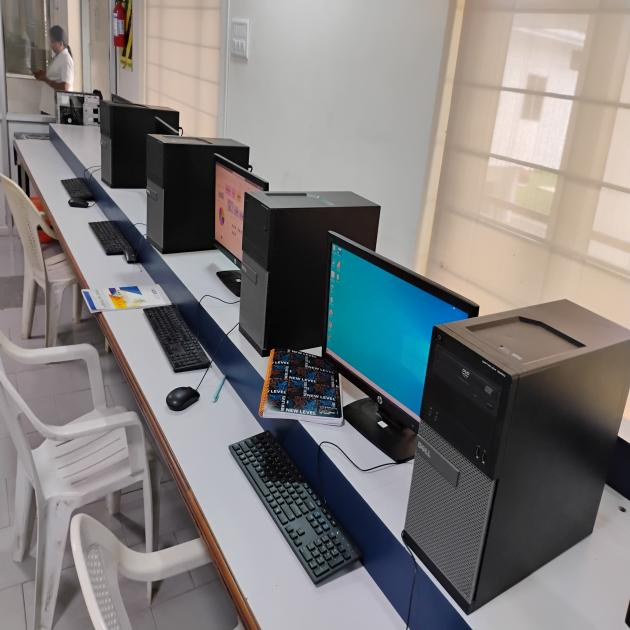computer: (315, 214, 481, 432)
cpu: (386, 276, 626, 627), (142, 129, 249, 258)
desk: (10, 118, 436, 630)
fireestinguisher: (105, 0, 142, 77)
keyboard: (223, 418, 374, 597), (144, 302, 208, 378)
notebook: (80, 278, 168, 317)
